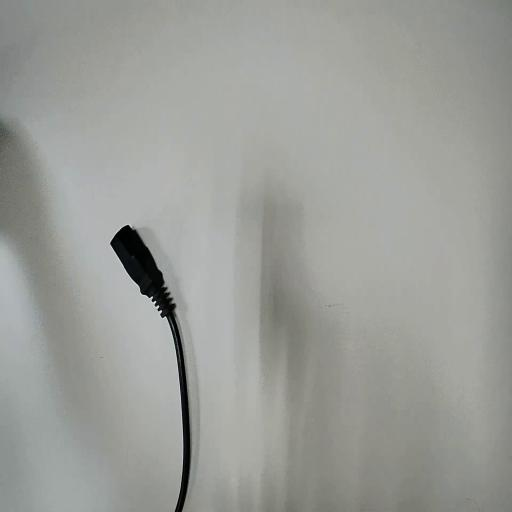wire: (111, 226, 189, 511)
